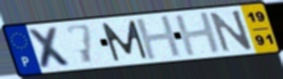7: (64, 22, 96, 66)
H: (133, 14, 185, 62), (172, 10, 224, 58)
M: (100, 19, 150, 63)
N: (208, 8, 256, 54)
X: (25, 25, 76, 70)
